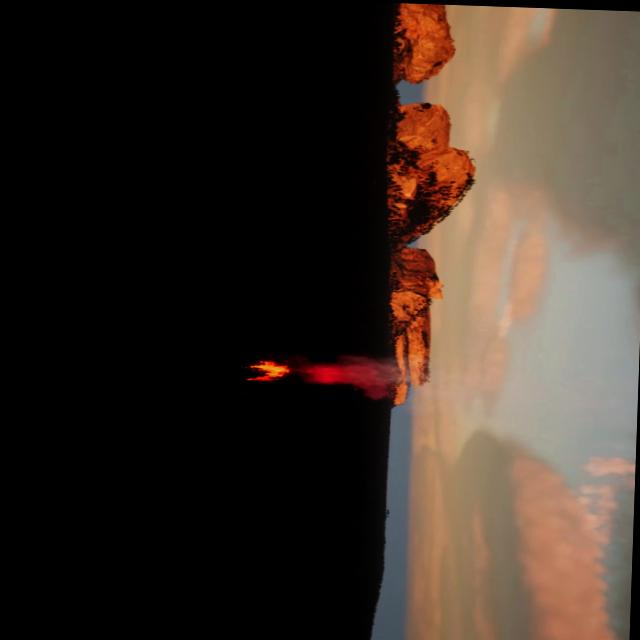fire: (240, 358, 288, 383)
smoke: (294, 352, 414, 398)
